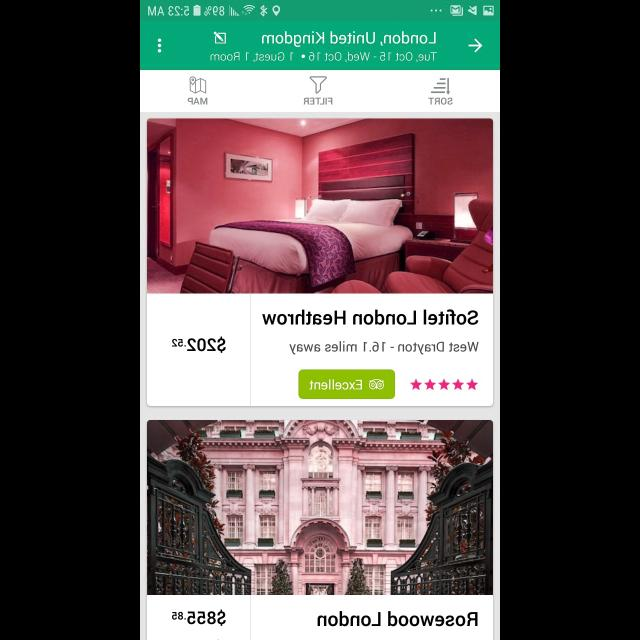icon: (410, 378, 478, 390), (430, 78, 450, 95), (190, 77, 207, 95), (468, 38, 482, 54), (213, 31, 227, 44), (158, 36, 162, 54)
image: (147, 420, 493, 596), (147, 119, 493, 294), (309, 76, 327, 94)
text: (262, 310, 478, 326), (262, 32, 436, 48), (210, 52, 438, 64), (290, 341, 478, 355), (317, 611, 477, 627), (172, 336, 226, 354), (172, 610, 226, 626), (428, 98, 452, 106), (304, 98, 332, 104), (188, 98, 208, 104)
textbutton: (298, 369, 394, 399)
uppertaskbar: (140, 1, 500, 22)
